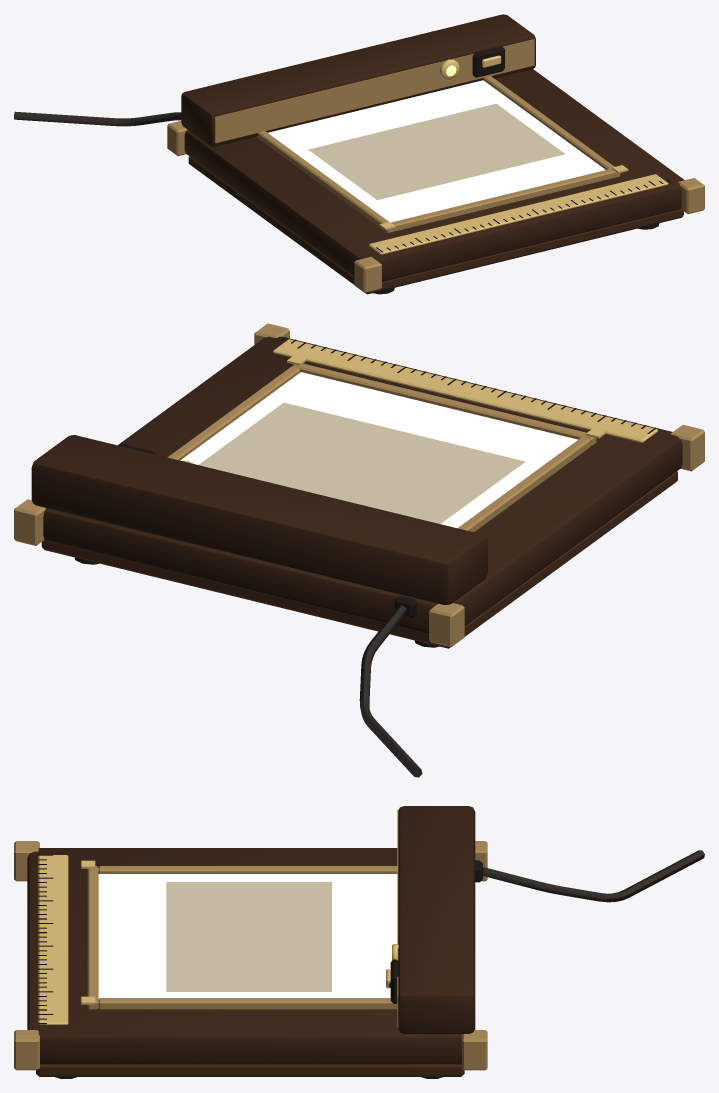
The model's file is light_table.glb.
The picture shows the model from 3 angles, top to bottom: view 1: azimuth 30°, elevation 25°; view 2: azimuth 150°, elevation 25°; view 3: azimuth 270°, elevation 25°; orthographic projection. The views are drawn at different scales.
Visible parts, largest first — view 1: light_table_body, table_glow, table_mask; view 2: light_table_body, table_mask, table_glow; view 3: light_table_body, table_glow, table_mask.
Boxes of the visible parts, x1=… form: light_table_body: x1=14, y1=14, x2=704, y2=294; table_glow: x1=268, y1=80, x2=605, y2=222; table_mask: x1=308, y1=103, x2=564, y2=200; light_table_body: x1=14, y1=323, x2=704, y2=777; table_mask: x1=199, y1=402, x2=525, y2=523; table_glow: x1=180, y1=372, x2=577, y2=528; light_table_body: x1=14, y1=806, x2=704, y2=1078; table_glow: x1=98, y1=874, x2=397, y2=998; table_mask: x1=166, y1=882, x2=331, y2=991.
Bounding box in the file's own units: 0.5222 × 0.0984 × 0.6419.
